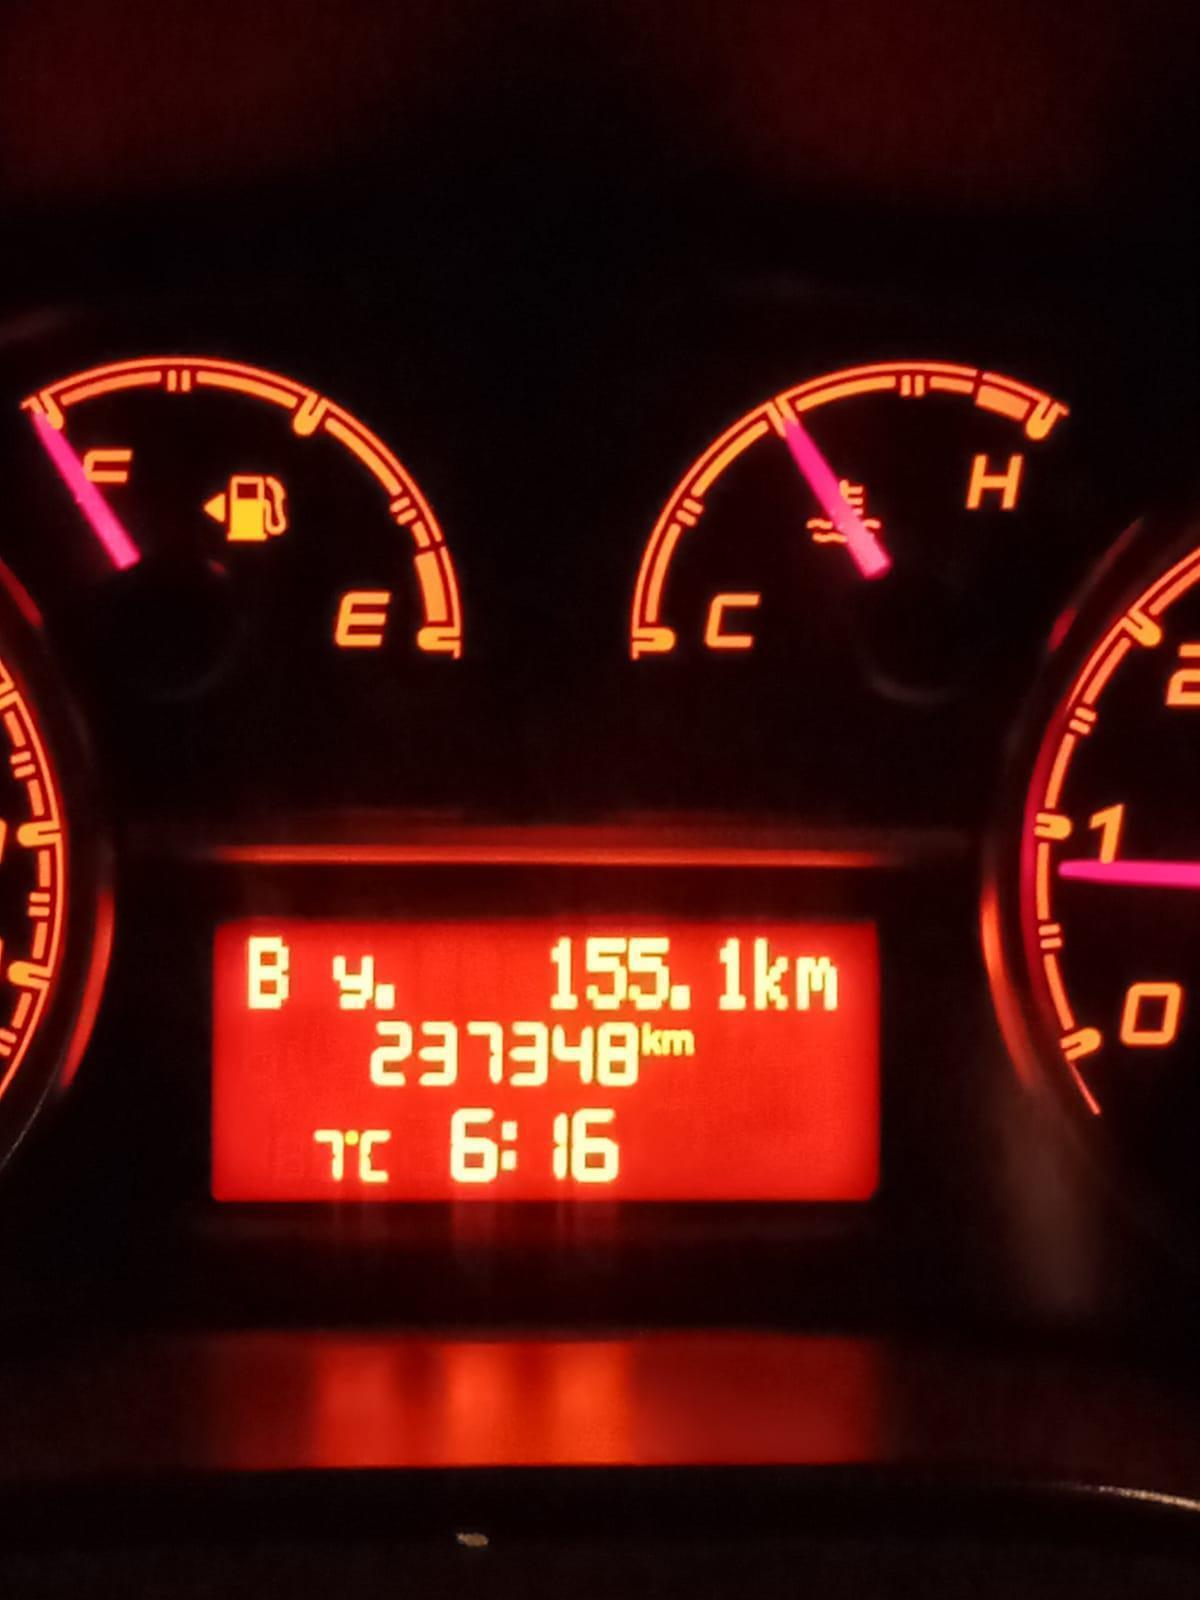,: (373, 983, 397, 1010), (668, 983, 691, 1012)
1: (548, 934, 579, 1010), (717, 936, 747, 1012), (550, 1111, 570, 1183)
2: (367, 1019, 413, 1086)
3: (505, 1020, 550, 1089), (416, 1020, 459, 1089)
4: (550, 1023, 596, 1085)
5: (626, 936, 671, 1010), (584, 936, 626, 1010)
6: (447, 1106, 499, 1184), (570, 1107, 621, 1183)
7: (465, 1020, 504, 1085), (313, 1128, 345, 1183)
8: (594, 1020, 640, 1089)
X: (245, 935, 291, 1012), (750, 935, 790, 1012), (794, 954, 839, 1012), (330, 954, 374, 1010), (355, 1128, 392, 1183), (499, 1117, 519, 1170), (662, 1029, 695, 1057), (640, 1020, 662, 1056)
odometer: (205, 911, 885, 1207)
